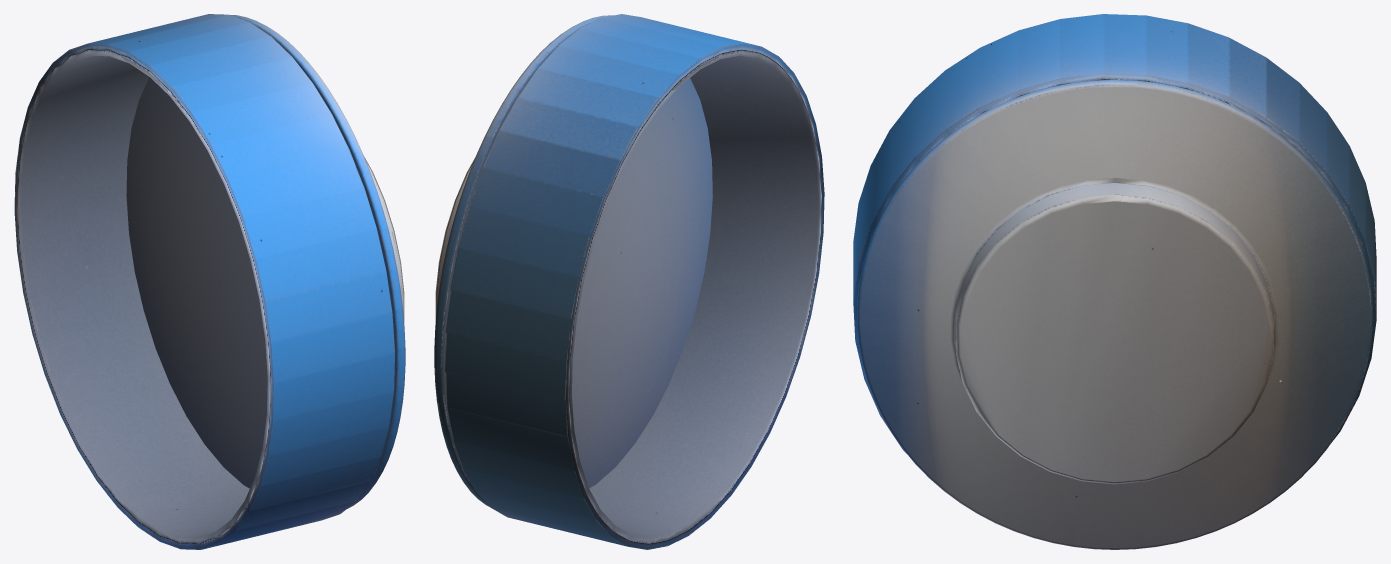
The model's file is wrist_roll_link.obj.
3 views of the same model, side by side, from view 1: azimuth 30°, elevation 25°; view 2: azimuth 150°, elevation 25°; view 3: azimuth 270°, elevation 25° (orthographic).
Bounding box in the file's own units: 0.0425 × 0.1039 × 0.1039.
Materials: 1 (1 with a texture image).
